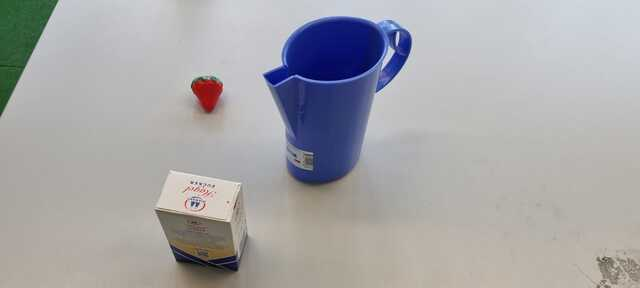004_sugar_box: (153, 168, 247, 273)
012_strawberry: (190, 74, 224, 114)
019_pitcher_base: (262, 14, 413, 186)
